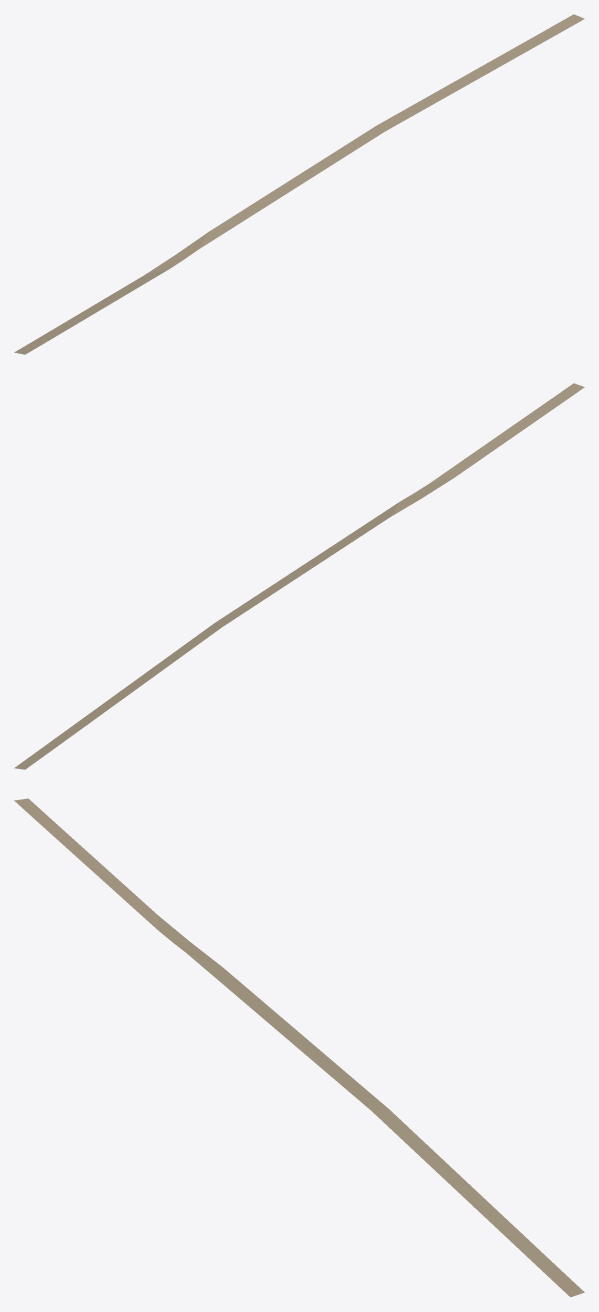
Rendered from farm_-34_-34_track.glb.
3 views of the same model, one above another, from view 1: azimuth 30°, elevation 25°; view 2: azimuth 210°, elevation 25°; view 3: azimuth 270°, elevation 25° (orthographic). The views are drawn at different scales.
Visible parts, largest first — view 1: geometry_0; view 2: geometry_0; view 3: geometry_0.
Part boxes in pixels (<box>): geometry_0: <box>14,14,584,354</box>; geometry_0: <box>14,383,584,769</box>; geometry_0: <box>14,798,584,1297</box>.
Bounding box in the file's own units: 225 × 6.66 × 116.
